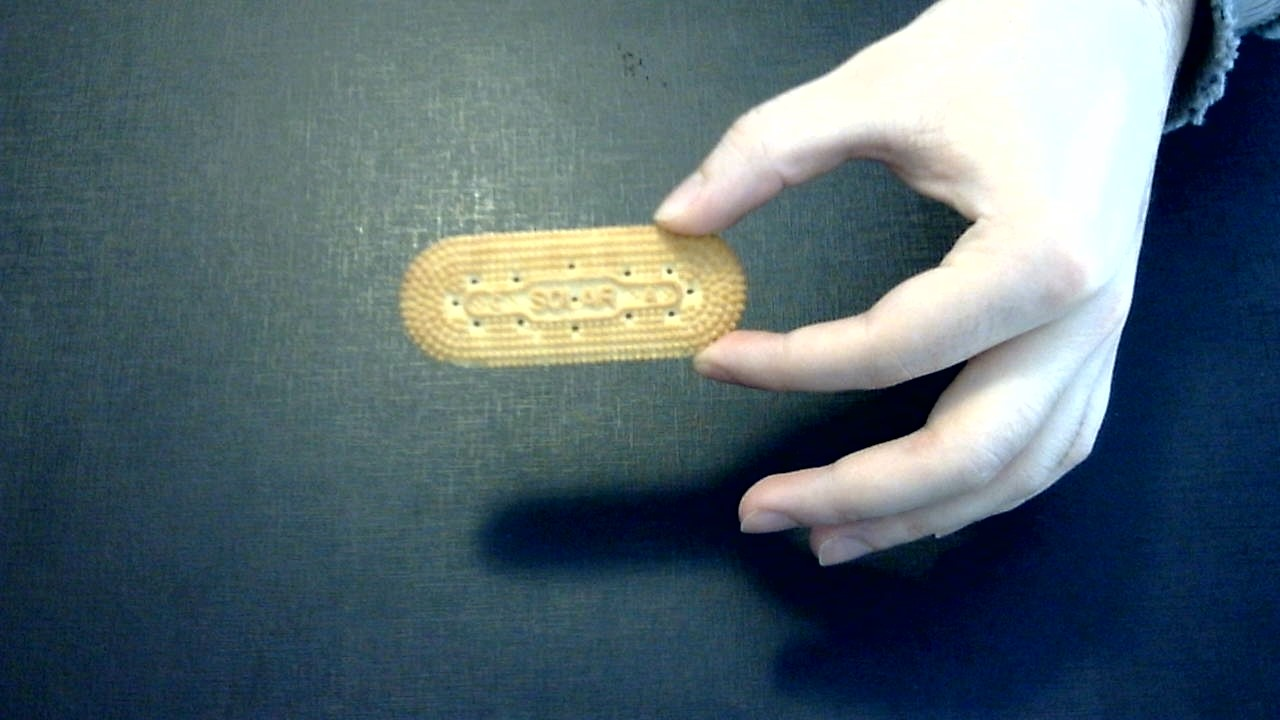solar: (400, 222, 747, 372)
